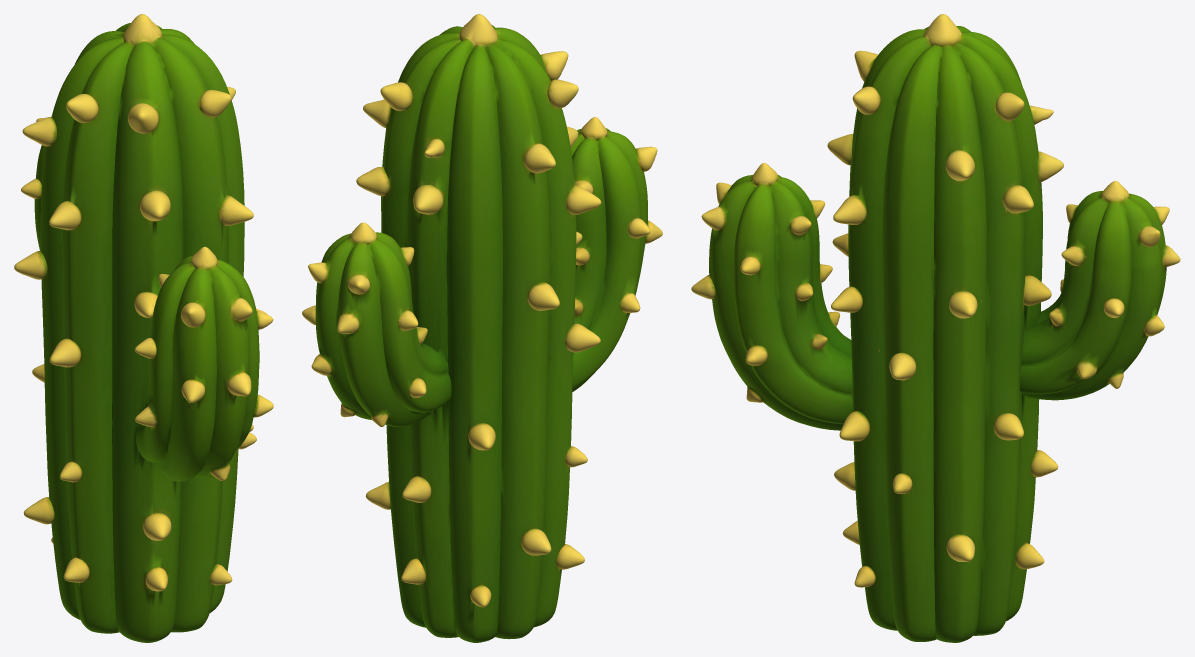
The model's file is cactus_saguaro.glb.
3 views of the same model, side by side, from view 1: azimuth 30°, elevation 25°; view 2: azimuth 150°, elevation 25°; view 3: azimuth 270°, elevation 25° (orthographic).
Parts seen in each view (by area): view 1: tripo_node_f35b8dcd-b9dd-4f7c-bffa-781faa9ebcfa; view 2: tripo_node_f35b8dcd-b9dd-4f7c-bffa-781faa9ebcfa; view 3: tripo_node_f35b8dcd-b9dd-4f7c-bffa-781faa9ebcfa.
Boxes of the visible parts, x1,y1,x2,y2 form: tripo_node_f35b8dcd-b9dd-4f7c-bffa-781faa9ebcfa: (14, 14, 273, 642); tripo_node_f35b8dcd-b9dd-4f7c-bffa-781faa9ebcfa: (302, 14, 662, 642); tripo_node_f35b8dcd-b9dd-4f7c-bffa-781faa9ebcfa: (691, 14, 1180, 642).
Bounding box in the file's own units: 0.411 × 1.1 × 0.8081.
1 material, 1 textured.
